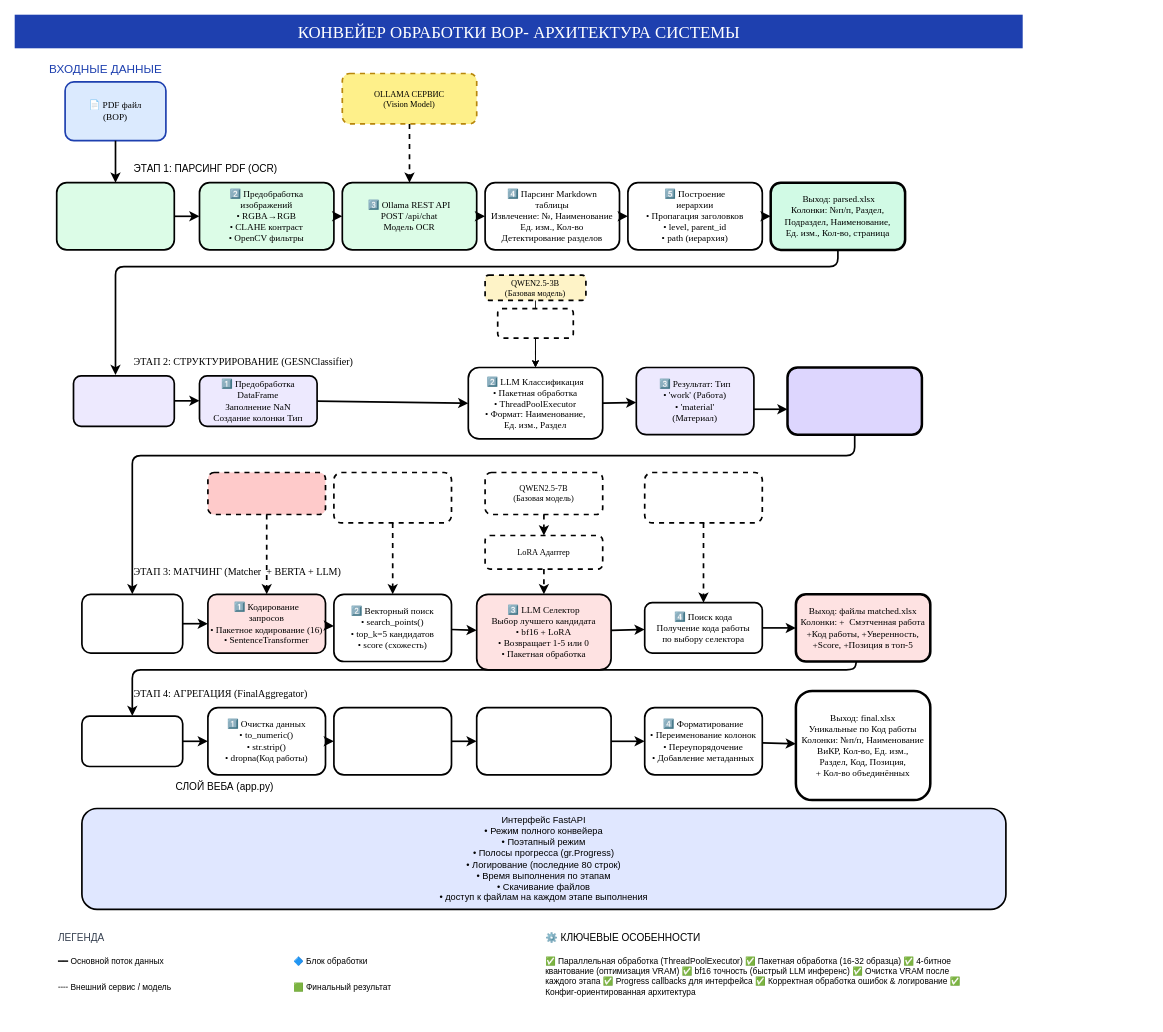
Image size: 1163x1032. Some labels were removed from this diagram. The box of each missing label's shape, as (x1, y1, x2, y2) in pixels:
1️⃣ Преобразование PDF в изображения DPI=400: (55, 181, 175, 250)
2️⃣ Группировка • group_key = Раздел|Код • Извлечение имени ВИКР: (333, 706, 452, 775)
3️⃣ Агрегация • Кол-во: сумма • Средние: среднее • Детали: первый/join: (475, 706, 612, 775)
BERTA Embedder (Sentence Transformer): (207, 471, 326, 515)
LoRA Адаптер (final/): (496, 307, 574, 339)
QDRANT VectorDB Коллекция: 'vikr': (333, 471, 452, 523)
Вход: matched.xlsx: (81, 715, 183, 767)
Вход: parsed.xlsx: (72, 375, 175, 427)
Вход: structured.xlsx: (81, 593, 183, 654)
Выход: structured.xlsx Колонки: +Тип, +Раздел, +Подраздел, переупорядочено: (786, 366, 923, 436)
Справочник код → наименование (ВИКР справочник): (643, 471, 763, 523)
